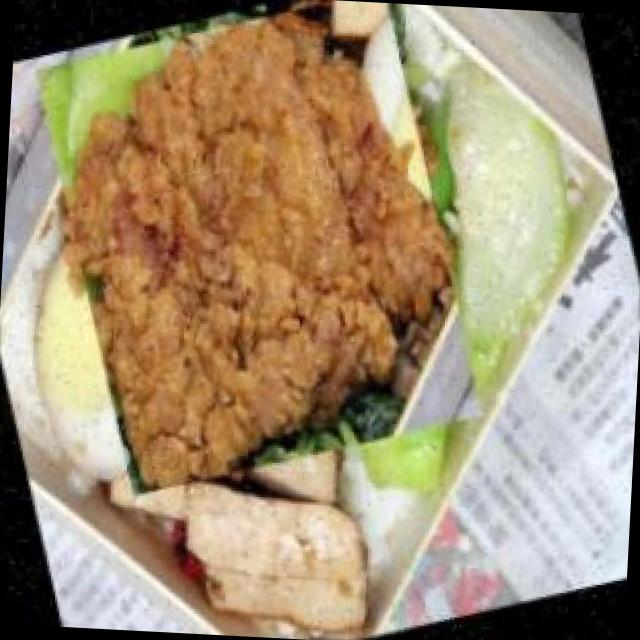fried_chicken: (12, 0, 506, 516)
